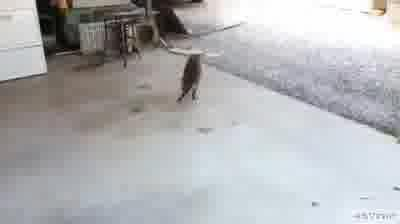raccoon: (178, 53, 203, 106)
